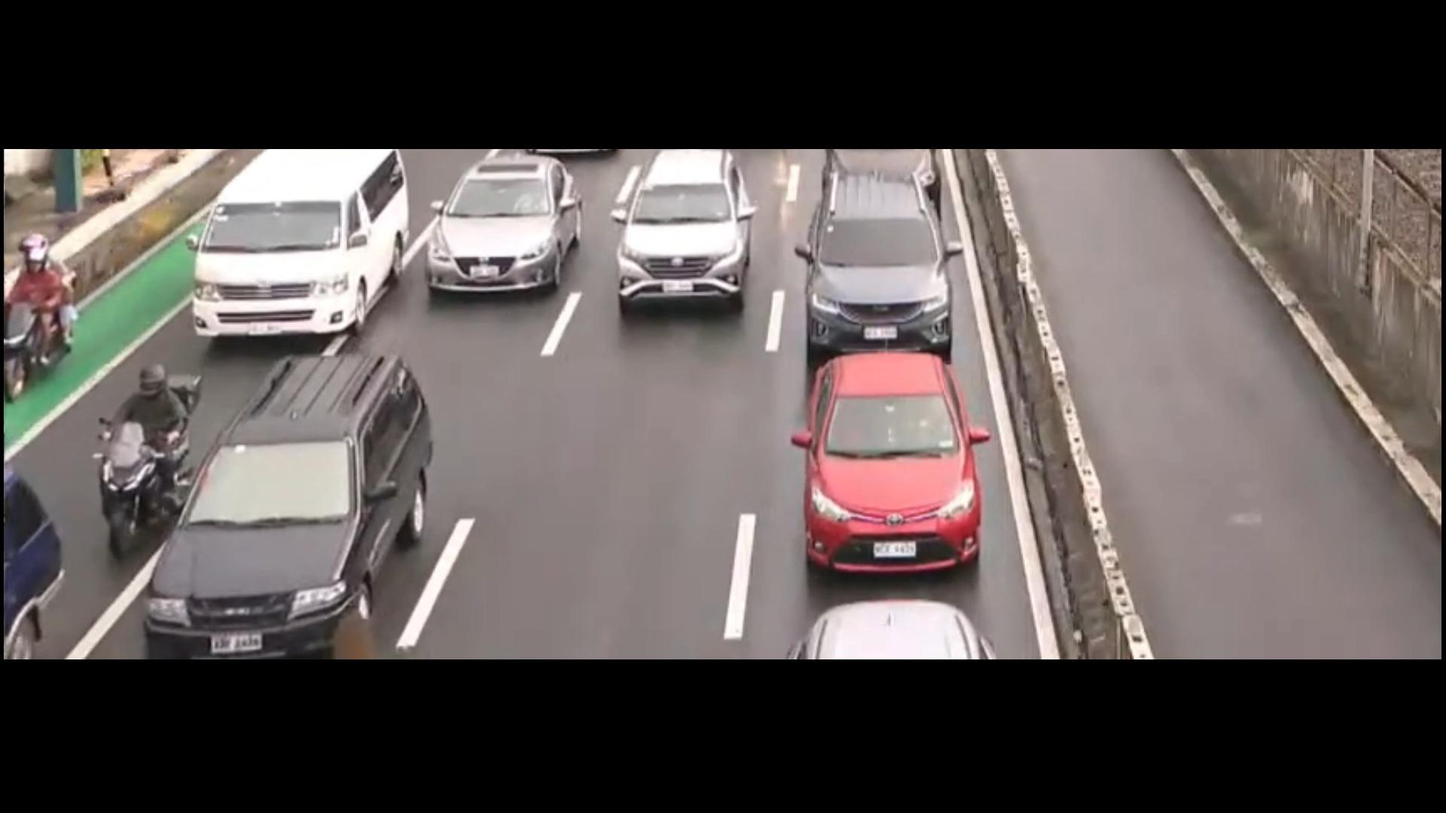Motorcycle: (72, 354, 230, 559), (0, 230, 89, 410)
SUV: (128, 343, 471, 655), (798, 147, 961, 362), (607, 154, 768, 320)
Sedan: (760, 348, 1024, 586), (420, 151, 586, 313)
Van: (173, 149, 428, 348)
